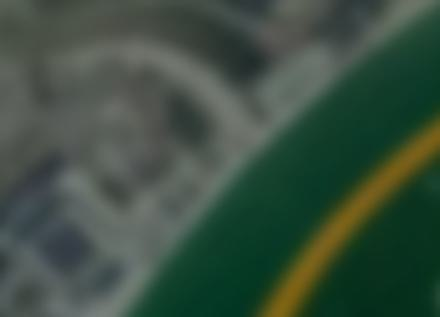Apron: (260, 116, 439, 317)
